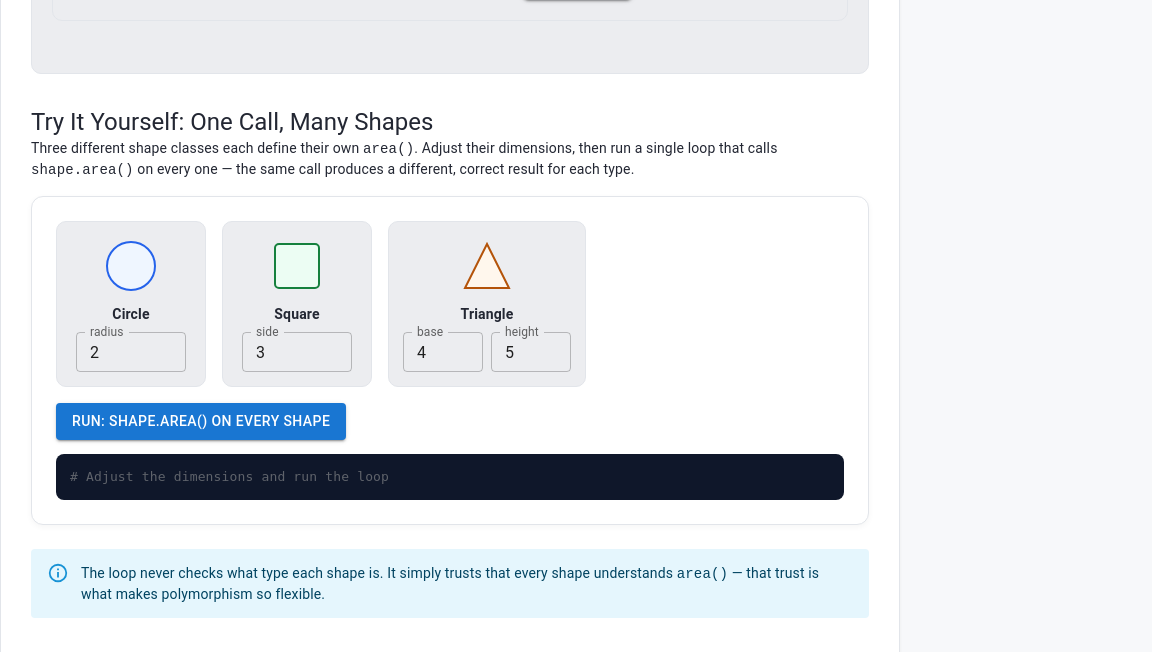
PolymorphismConcept › recomputes when a shape dimension changes
This screenshot has width=1152, height=652.
(page scrolled)
Replace the text in the number field labelled "radius" with "1" at (131, 352), box [76,332,186,372]
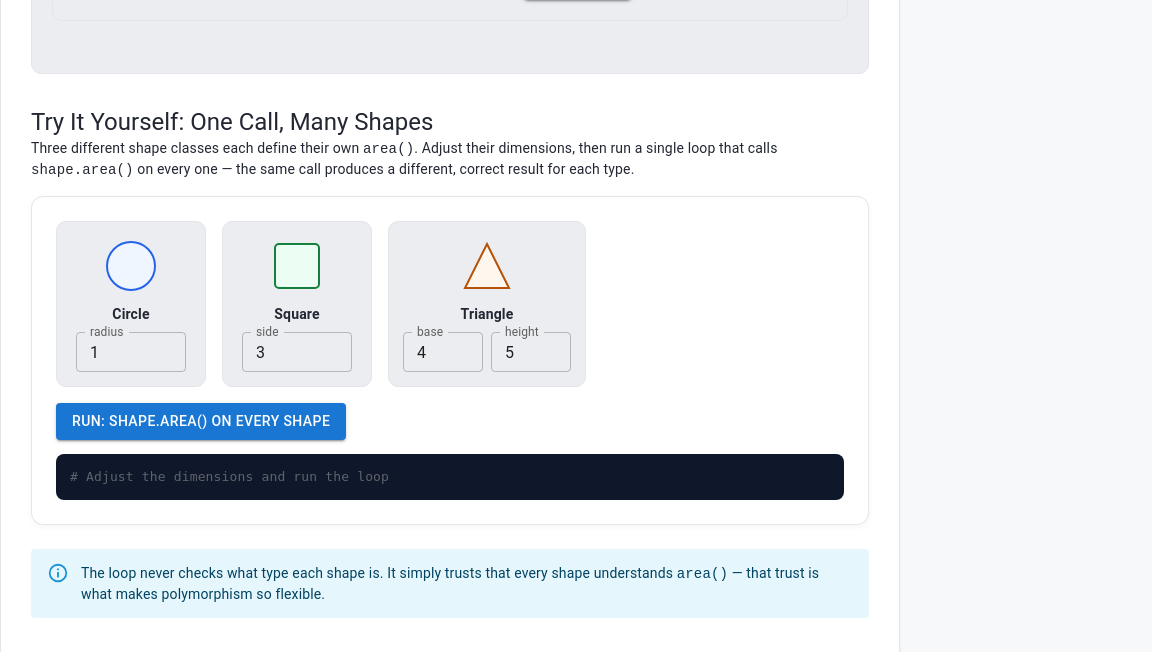
Click the button "Run: shape.area() on every shape" at (201, 421), box [56,403,346,440]
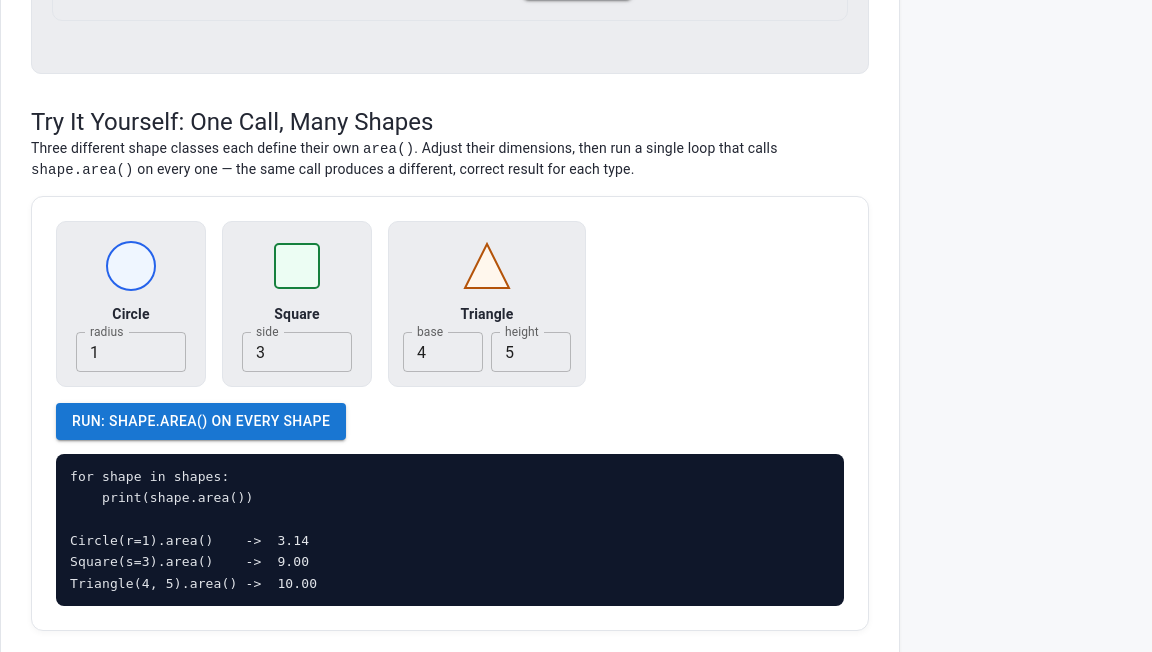
Now the text "Circle(r=1).area() -> 3.14" is shown, box [70,533,309,548]
